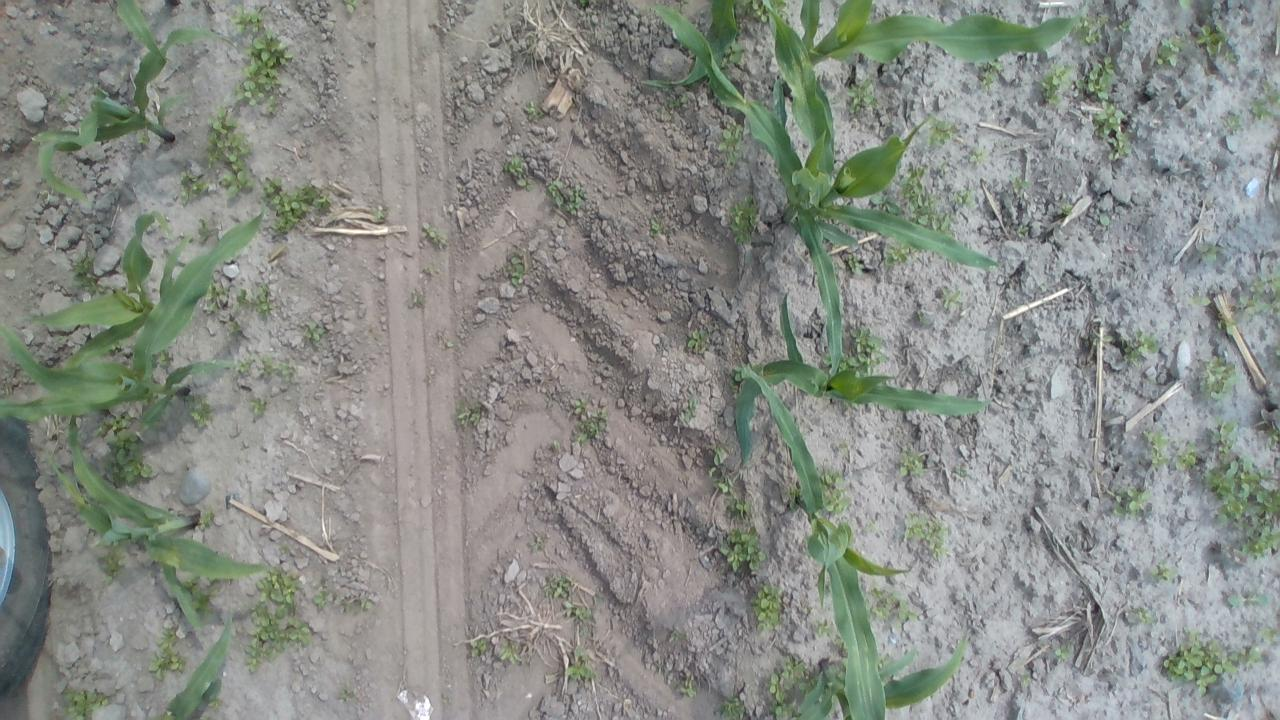Maize: (658, 0, 1003, 377), (734, 354, 913, 720), (0, 209, 265, 428), (52, 416, 284, 634), (28, 0, 235, 213), (730, 296, 992, 464), (778, 0, 1074, 104), (22, 204, 204, 372), (790, 634, 972, 720), (641, 0, 744, 90), (153, 617, 236, 720)
Weeds: (1210, 454, 1278, 561), (1160, 634, 1262, 695), (235, 24, 293, 116), (203, 104, 257, 198), (245, 604, 312, 671), (98, 412, 152, 488), (260, 177, 328, 234), (902, 165, 945, 231), (1095, 102, 1134, 162), (902, 512, 948, 562), (868, 588, 922, 630), (720, 526, 766, 575), (1237, 267, 1280, 319), (150, 624, 186, 681), (256, 569, 302, 612), (572, 394, 610, 444), (60, 686, 114, 720), (1076, 55, 1116, 100), (850, 324, 887, 372), (1195, 23, 1238, 64), (818, 468, 853, 516), (750, 582, 784, 631), (728, 195, 761, 244), (1039, 60, 1074, 105), (72, 249, 106, 295), (1120, 328, 1158, 368), (780, 658, 816, 700), (706, 444, 734, 496), (1200, 360, 1236, 400), (1248, 80, 1280, 124), (547, 178, 586, 214), (1110, 485, 1150, 518), (767, 669, 792, 720), (741, 0, 794, 23), (717, 121, 745, 164), (183, 579, 213, 619), (176, 170, 208, 203), (848, 80, 878, 114), (1209, 418, 1239, 452), (99, 546, 127, 582), (1075, 14, 1106, 46), (231, 5, 265, 33), (503, 156, 533, 187), (1154, 35, 1184, 66), (1145, 426, 1169, 464), (1224, 590, 1272, 609), (260, 354, 296, 379), (717, 691, 748, 718), (566, 650, 592, 682), (543, 574, 574, 599), (188, 398, 215, 426), (454, 401, 482, 427), (899, 450, 924, 479), (254, 283, 275, 317), (820, 350, 851, 373), (885, 244, 917, 266), (344, 593, 374, 616), (929, 121, 956, 146), (1174, 444, 1199, 471), (843, 253, 869, 278), (872, 192, 900, 215), (207, 282, 230, 310), (982, 59, 1003, 89), (729, 363, 762, 382), (224, 312, 248, 338), (686, 328, 710, 354), (940, 285, 964, 311), (1258, 622, 1280, 650), (1126, 607, 1156, 627), (422, 223, 447, 247), (506, 256, 526, 286), (195, 218, 218, 243), (1150, 560, 1176, 582), (498, 640, 522, 663), (675, 675, 699, 698), (562, 601, 594, 618), (661, 92, 688, 112), (646, 214, 668, 238), (729, 498, 753, 520), (954, 185, 976, 209), (249, 393, 270, 418), (724, 38, 744, 64), (314, 581, 331, 610), (682, 395, 699, 424), (304, 322, 326, 344), (1052, 643, 1074, 665), (235, 355, 256, 378), (196, 507, 217, 529), (153, 348, 176, 368), (233, 288, 252, 312), (786, 486, 804, 511), (1224, 112, 1244, 134), (468, 636, 488, 658), (1091, 333, 1116, 350), (1186, 294, 1214, 309), (436, 331, 456, 351), (813, 620, 833, 640), (1009, 173, 1030, 192), (966, 148, 988, 166), (56, 88, 72, 112), (1201, 242, 1220, 262), (338, 688, 358, 706), (1015, 670, 1034, 688), (206, 690, 223, 710), (409, 291, 426, 311), (339, 0, 360, 16), (1264, 426, 1280, 447), (529, 534, 546, 552), (1220, 315, 1238, 332), (1116, 18, 1132, 36), (524, 100, 542, 116), (656, 660, 669, 680), (422, 262, 438, 278), (374, 202, 386, 222), (1015, 224, 1029, 240), (670, 628, 684, 644), (552, 439, 565, 455), (1098, 214, 1112, 228), (954, 468, 970, 478), (1059, 204, 1071, 217), (1178, 0, 1194, 9), (830, 240, 840, 248), (579, 0, 587, 8), (1274, 349, 1280, 358)
